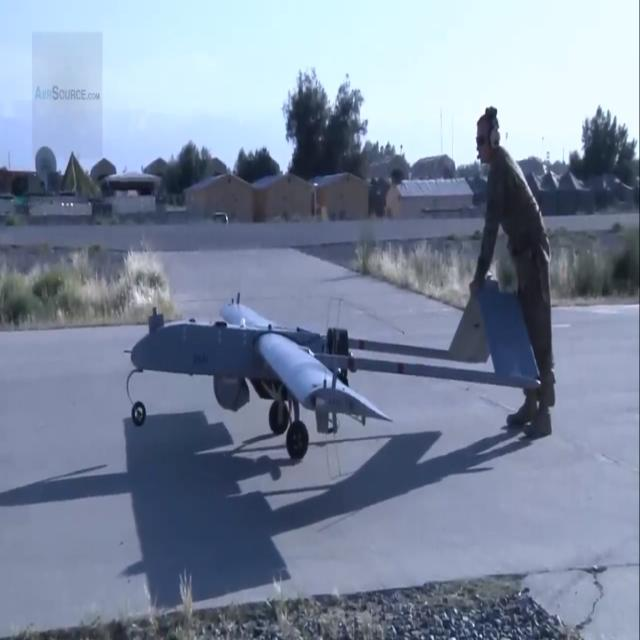drones: (123, 284, 542, 484)
